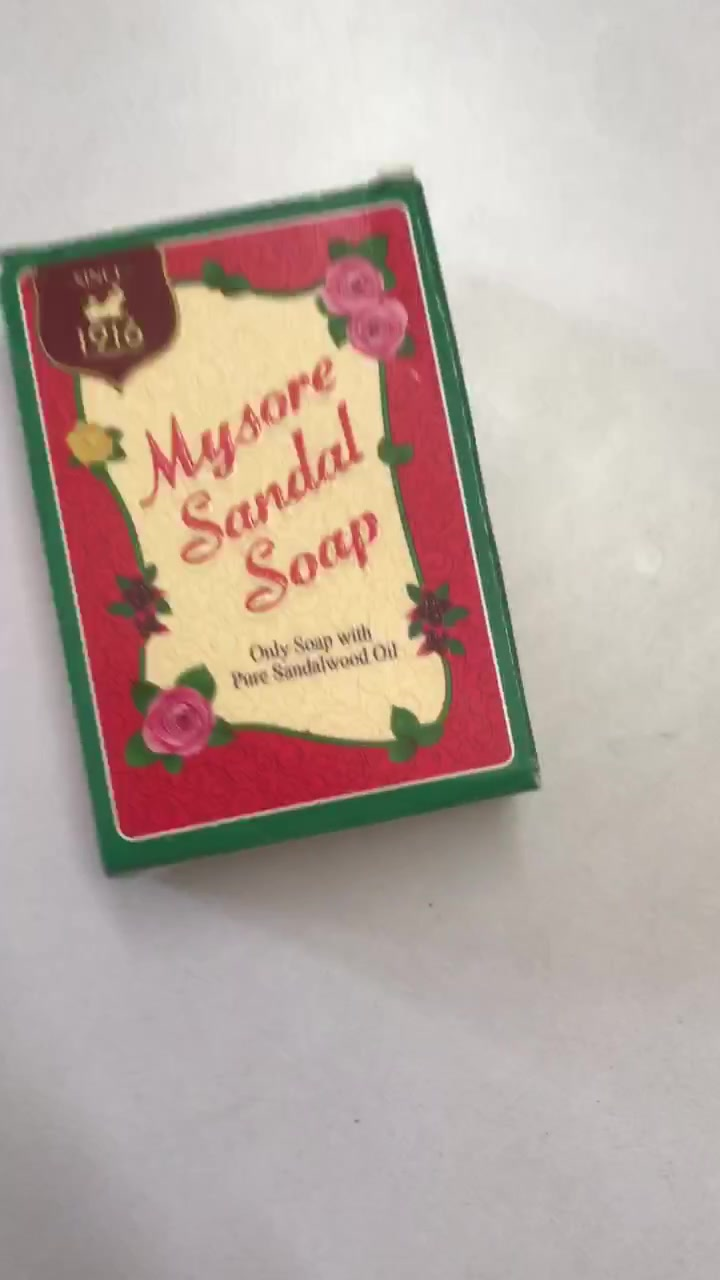mysore sandal soap: (10, 180, 539, 880)
